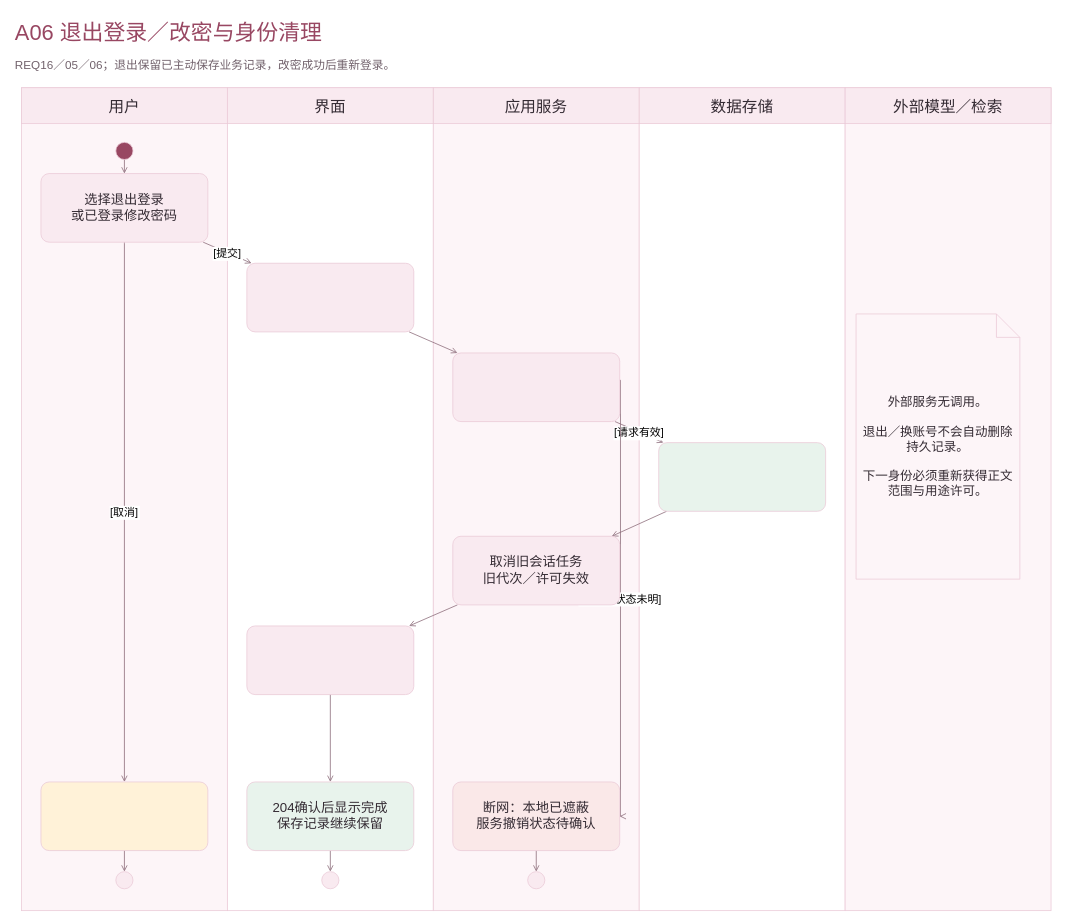
The diagram is 1072 pixels wide and 924 high, and some of its shapes have lost their labels. The shapes that lost their labels are listed below. From the top down, each one's box as (x1, y1, x2, y2) in pixels, then its label:
(246, 262, 414, 332): 先遮蔽私密视图 冻结旧身份响应
(452, 352, 620, 422): logout撤销当前会话 change-password校验旧密
(658, 442, 826, 511): 退出：撤销登录会话 改密：撤销全部旧会话
(246, 625, 414, 695): 清身份缓存与临时正文 退出到访客／改密去登录
(40, 781, 208, 851): 提交前取消 恢复原表单／当前身份
